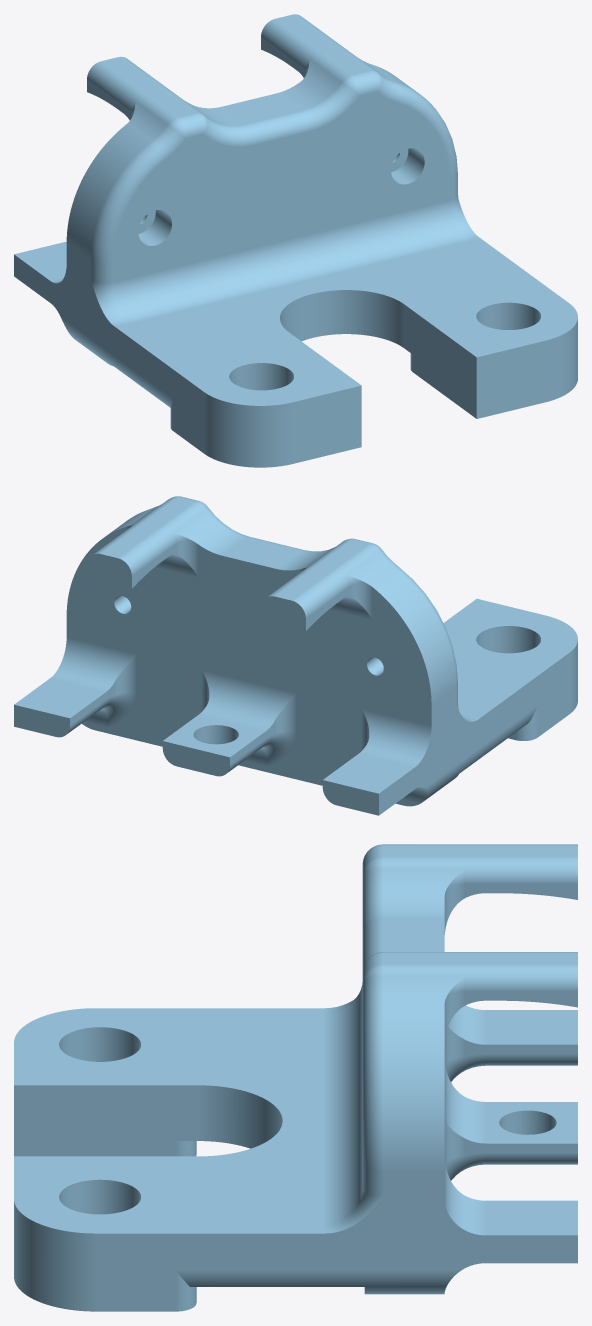
Rendered from pizza_camera_joint.dae.
The picture shows the model from 3 angles, top to bottom: view 1: azimuth 30°, elevation 25°; view 2: azimuth 150°, elevation 25°; view 3: azimuth 270°, elevation 25°; orthographic projection. The views are drawn at different scales.
Visible parts, largest first — view 1: ID2; view 2: ID2; view 3: ID2.
Boxes of the visible parts, <box> form: ID2: <box>14,14,577,467</box>; ID2: <box>14,496,577,815</box>; ID2: <box>14,844,577,1311</box>.
Size of the model in its own units: 0.065 by 0.0688 by 0.0395.
